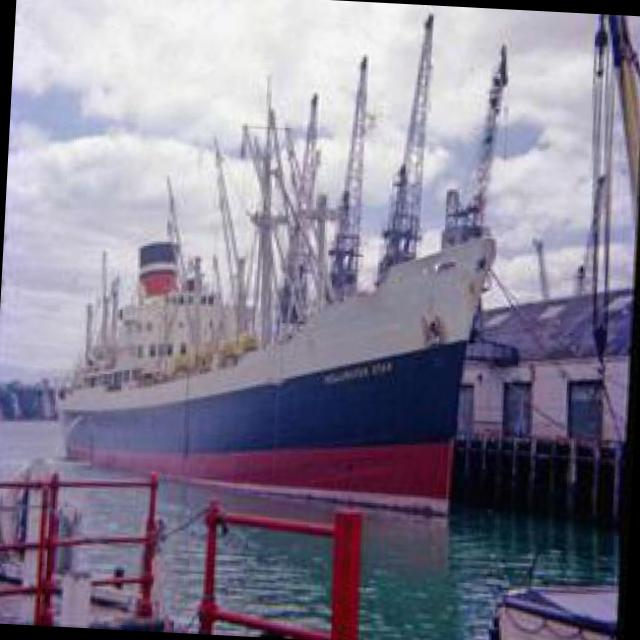boat: (59, 230, 518, 519)
